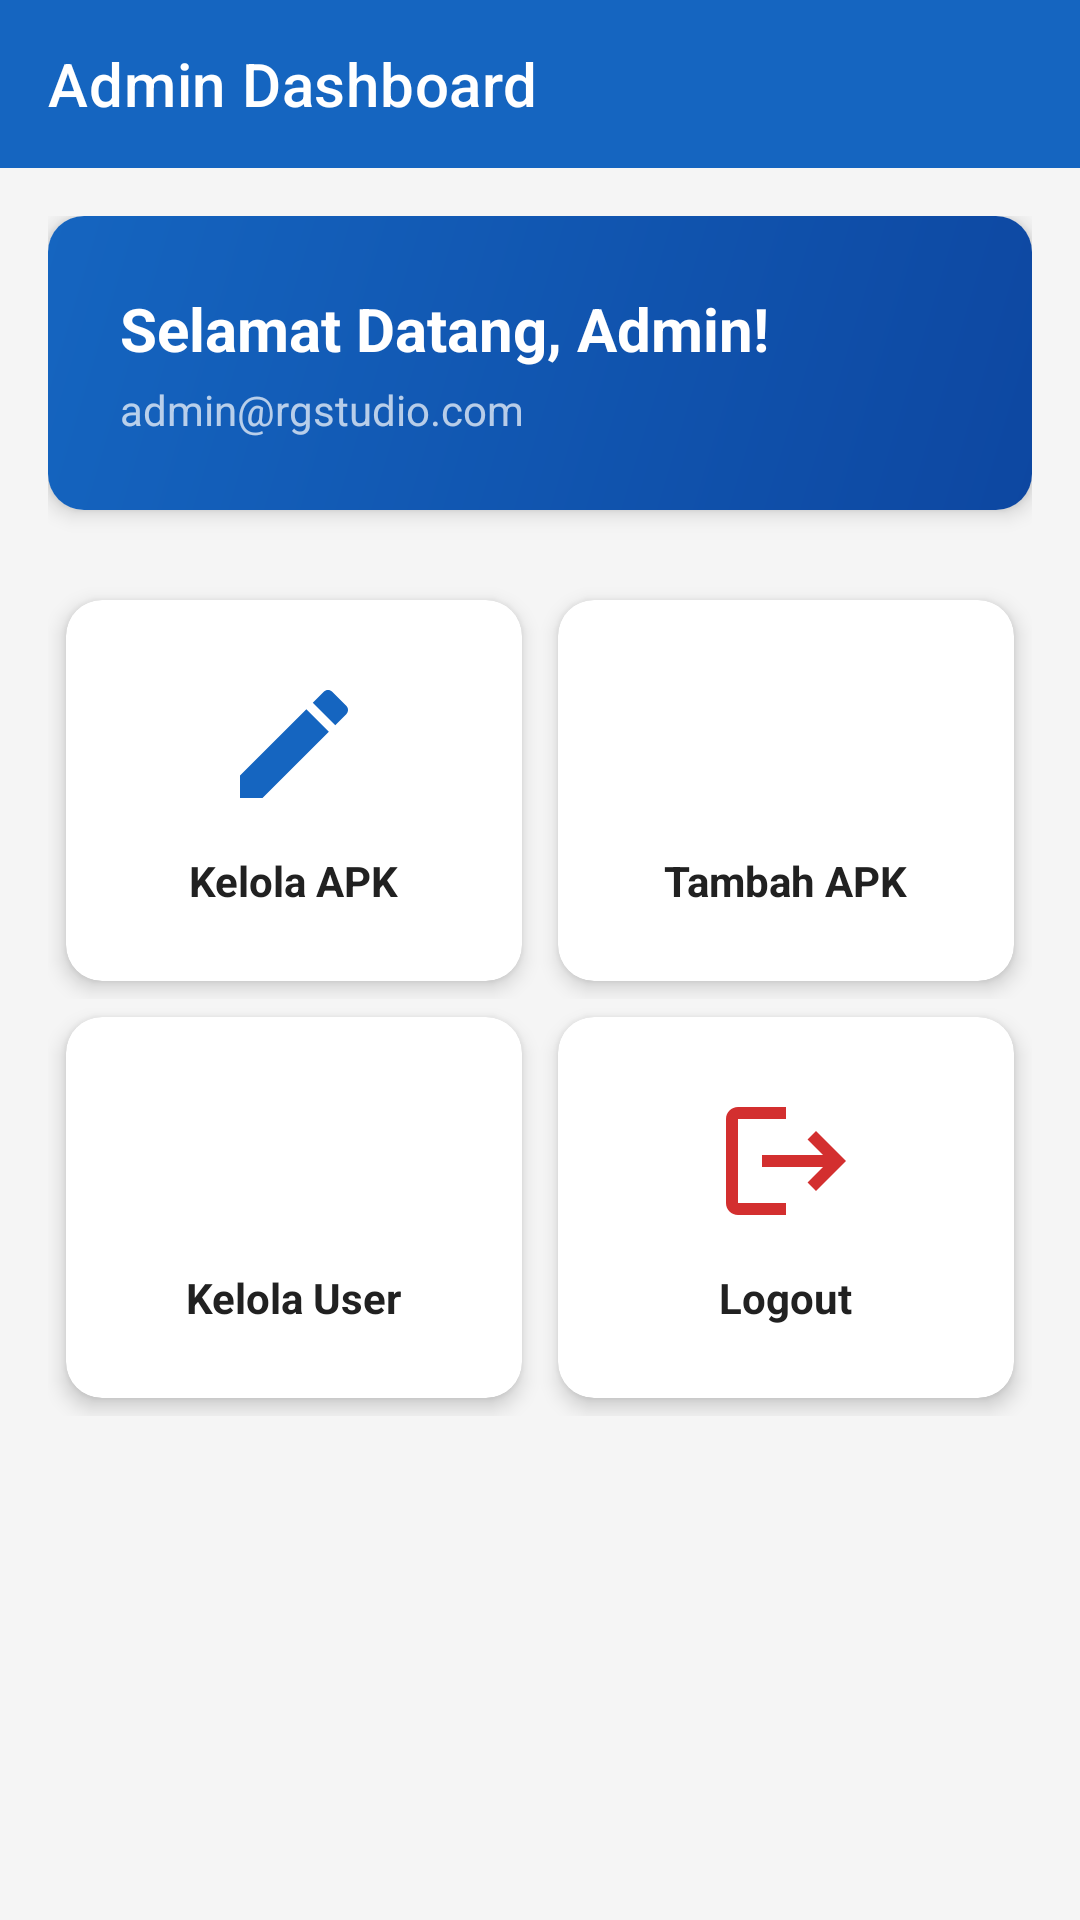

Named icons in this screenshot (1080 x 1920) and their centers, [x,y]:
edit: [294,744]
